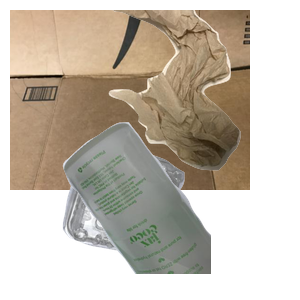cardboard: (10, 10, 250, 190)
glass: (60, 120, 300, 300)
plastic: (60, 136, 237, 300)
trash: (103, 10, 300, 173)
